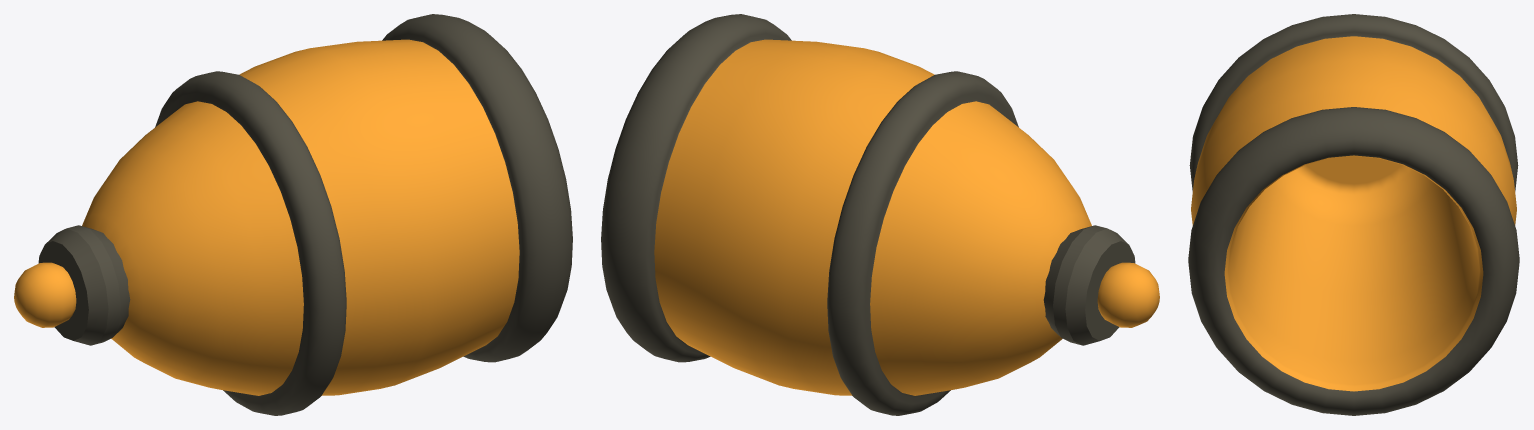
The model's file is CAñon.fbx.
The picture shows the model from 3 angles, left to right: view 1: azimuth 30°, elevation 25°; view 2: azimuth 150°, elevation 25°; view 3: azimuth 270°, elevation 25°; orthographic projection. The views are drawn at different scales.
Visible parts, largest first — view 1: Cylinder070; view 2: Cylinder070; view 3: Cylinder070.
Part boxes in pixels (x1=…): Cylinder070: x1=14, y1=14, x2=572, y2=415; Cylinder070: x1=601, y1=14, x2=1159, y2=415; Cylinder070: x1=1188, y1=14, x2=1519, y2=415.
Size of the model in its own units: 779 by 503 by 501.
